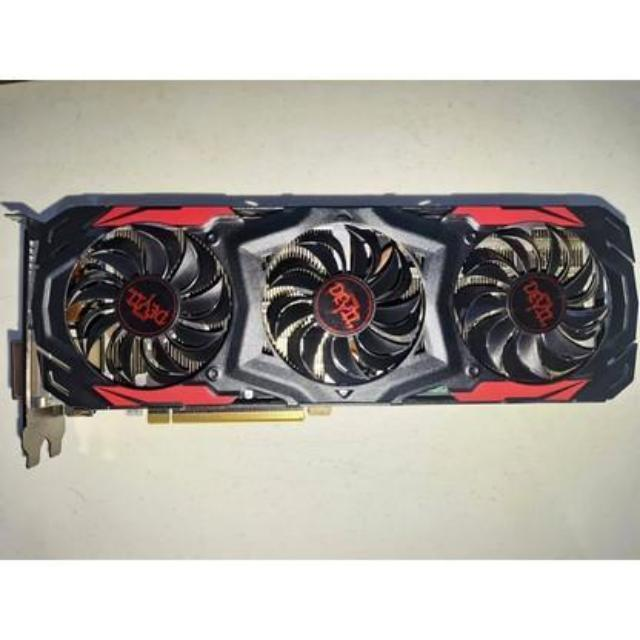GPU: (15, 194, 640, 420)
